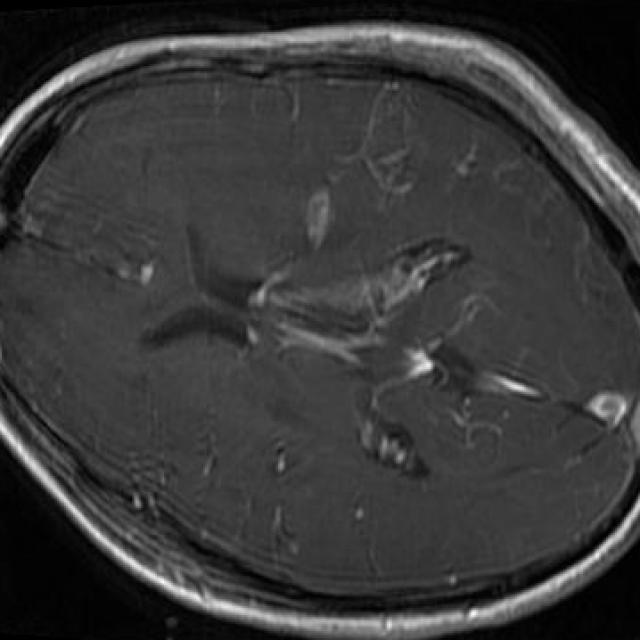glioma: (246, 239, 472, 337)
